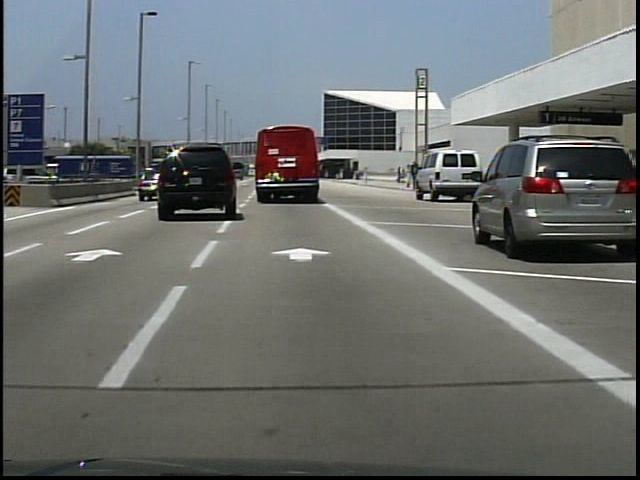person: (409, 161, 421, 194)
